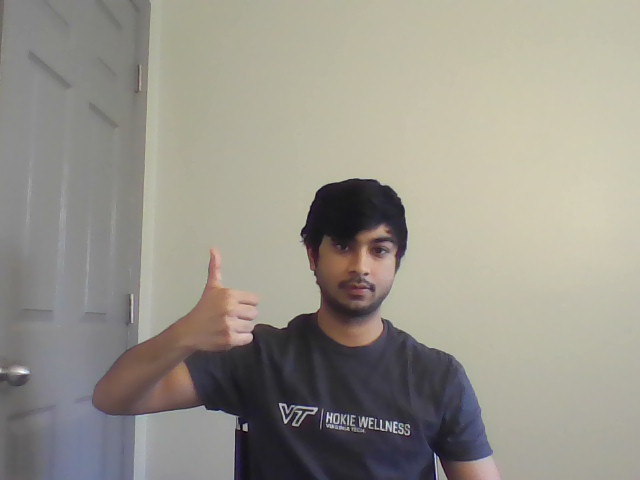confirm: (192, 246, 264, 352)
